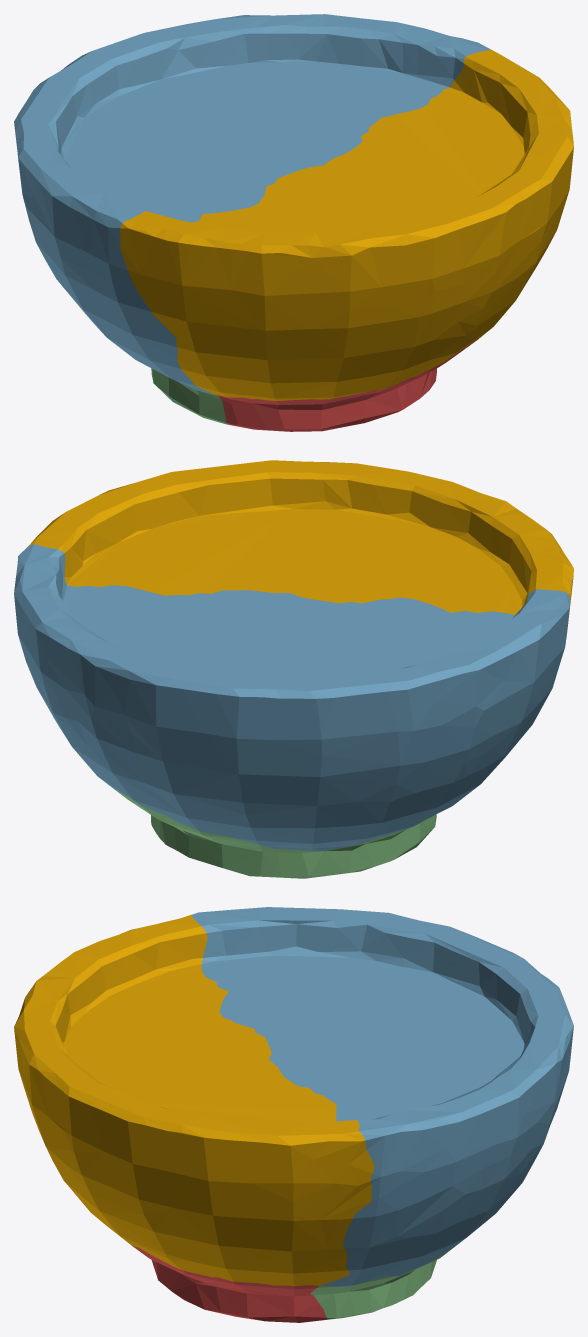
File: fractured_26_4pcs.glb
3 views of the same model, one above another, from view 1: azimuth 30°, elevation 25°; view 2: azimuth 150°, elevation 25°; view 3: azimuth 270°, elevation 25° (orthographic).
Visible parts, largest first — view 1: piece_0.obj, piece_2.obj, piece_1.obj, piece_3.obj; view 2: piece_2.obj, piece_0.obj, piece_3.obj; view 3: piece_0.obj, piece_2.obj, piece_1.obj, piece_3.obj.
Boxes of the visible parts, box(x1,y1,x2,y2) form: piece_0.obj: box(120, 49, 573, 400); piece_2.obj: box(14, 14, 489, 394); piece_1.obj: box(216, 338, 478, 431); piece_3.obj: box(151, 368, 229, 424); piece_2.obj: box(14, 544, 570, 851); piece_0.obj: box(29, 460, 573, 634); piece_3.obj: box(115, 789, 436, 878); piece_0.obj: box(14, 914, 374, 1286); piece_2.obj: box(192, 907, 573, 1286); piece_1.obj: box(131, 1245, 327, 1322); piece_3.obj: box(310, 1250, 450, 1319).
Bounding box in the file's own units: 1 × 0.4822 × 0.9999.
